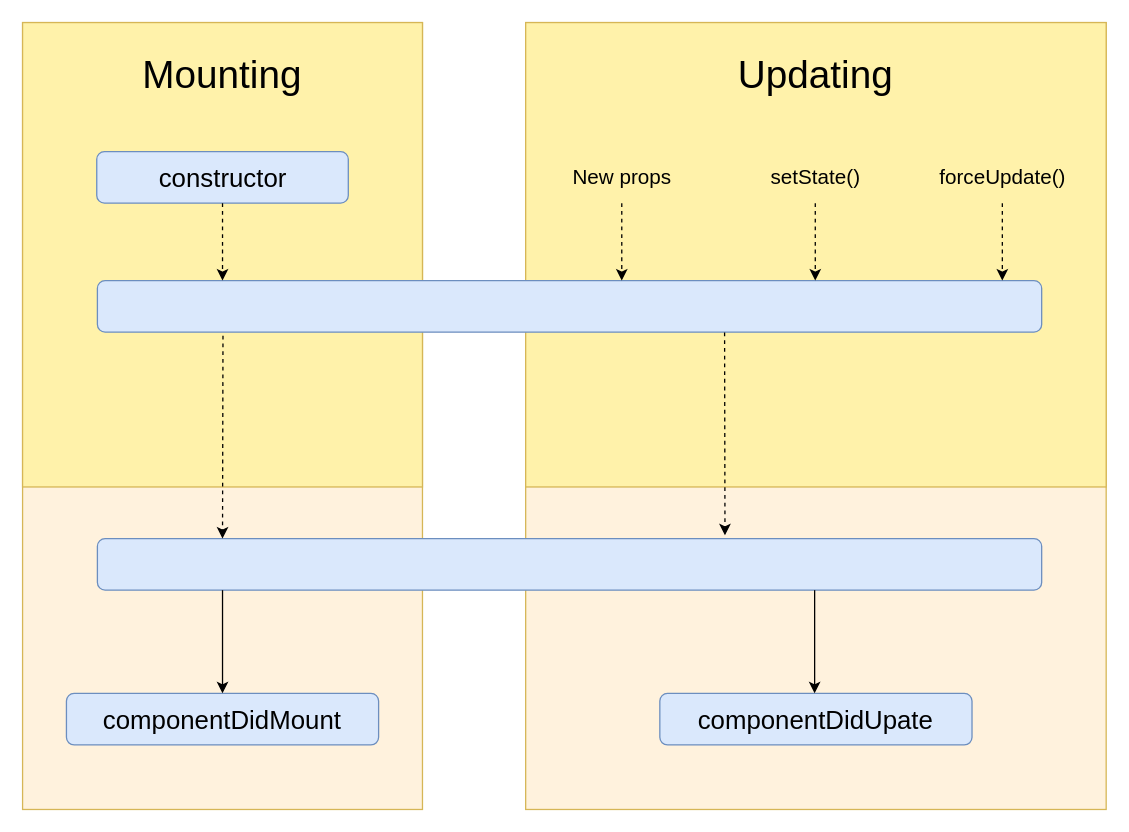
The diagram is 1129 pixels wide and 832 high, and some of its shapes have lost their labels. The centre of each missing label's shape, as x and y in pixels:
"React updates DOM and refs" goes at [569,563].
"render" goes at [569,305].
